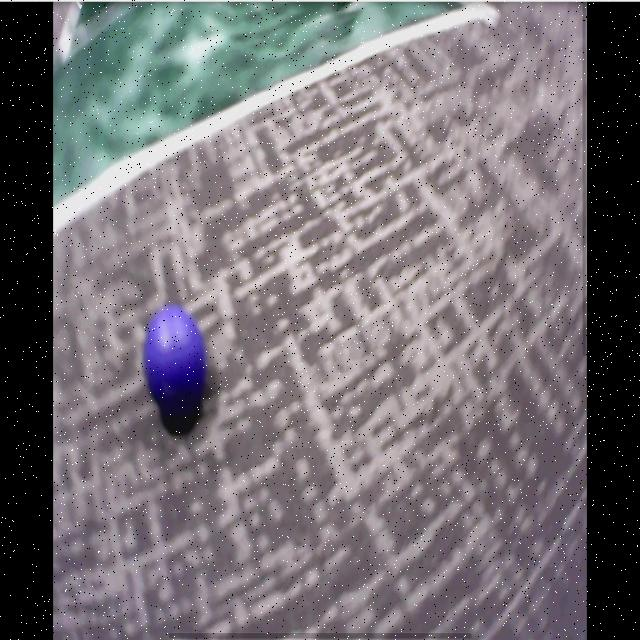ball: (145, 309, 208, 409)
